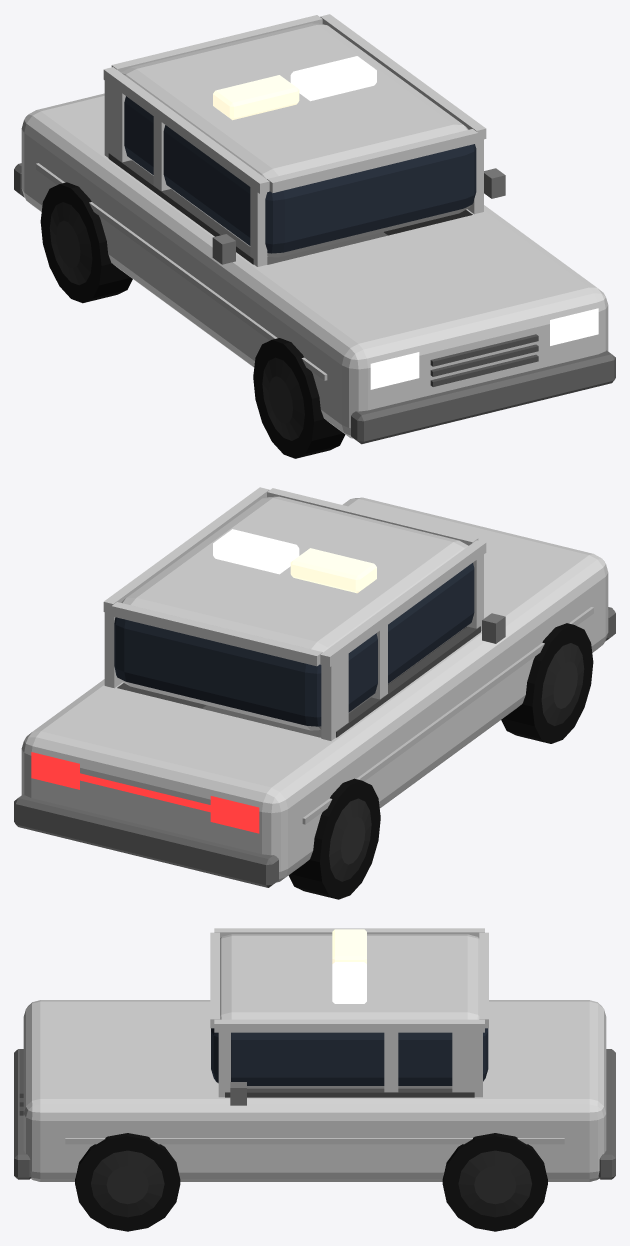
File: police.glb
3 renders of one model, top to bottom at view 1: azimuth 30°, elevation 25°; view 2: azimuth 150°, elevation 25°; view 3: azimuth 270°, elevation 25°, orthographic. The views are drawn at different scales.
Visible parts, largest first — view 1: Body, WheelRL, WheelFL; view 2: Body, WheelRL, WheelFL; view 3: Body, WheelRR, WheelFR.
Part boxes in pixels (x1,y1,x2,y2): Body: (14,14,615,444); WheelRL: (40,182,132,303); WheelFL: (253,338,345,458); Body: (14,487,615,887); WheelRL: (288,778,380,899); WheelFL: (501,623,593,743); Body: (14,928,615,1181); WheelRR: (442,1133,547,1231); WheelFR: (75,1133,180,1231).
Size of the model in its own units: 2.05 by 1.7 by 4.34.
